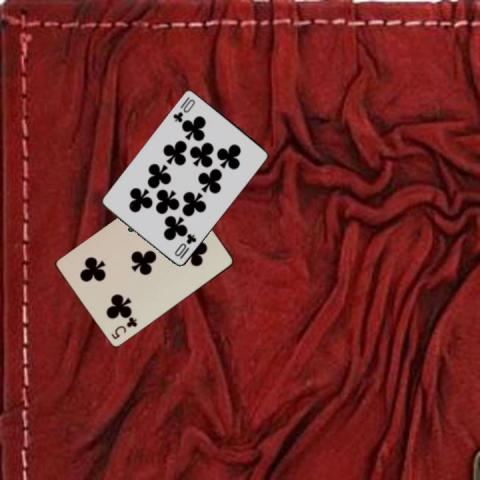10c: (170, 94, 197, 124), (171, 231, 198, 260)
5c: (108, 314, 139, 340)
